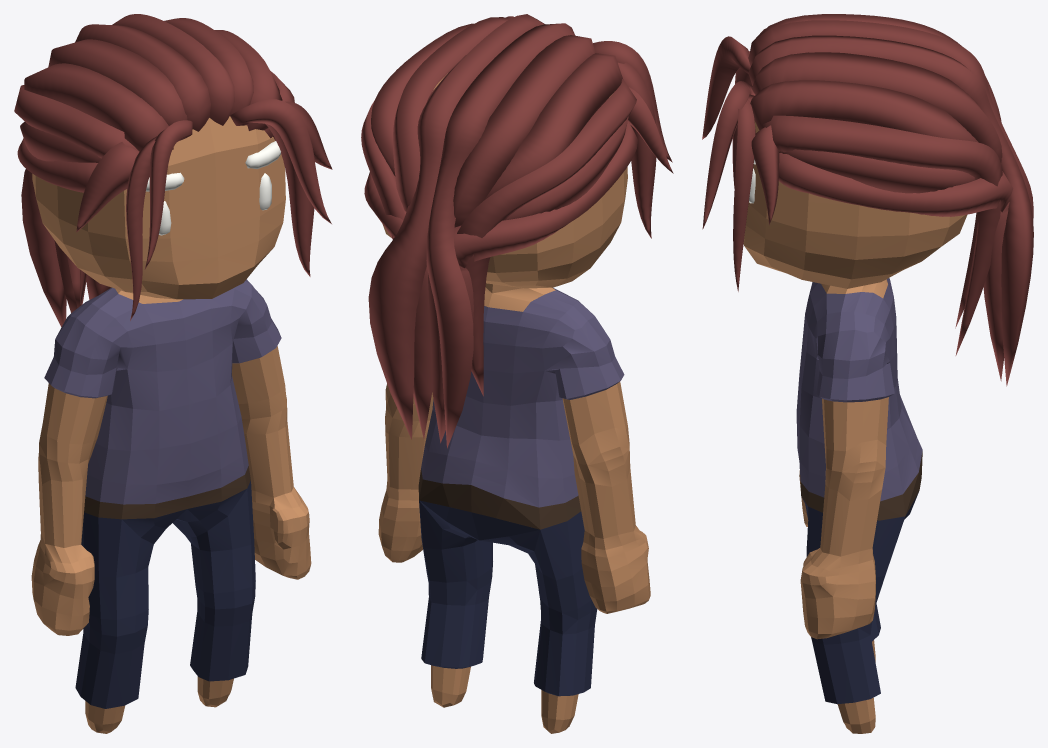
File: debout-casual2-female.glb
The picture shows the model from 3 angles, left to right: view 1: azimuth 30°, elevation 25°; view 2: azimuth 150°, elevation 25°; view 3: azimuth 270°, elevation 25°; orthographic projection.
Visible parts, largest first — view 1: Cube004, Cube004_5, Cube004_1, Cube004_2, Cube004_3, Cube004_4; view 2: Cube004_5, Cube004, Cube004_1, Cube004_2, Cube004_3; view 3: Cube004_5, Cube004, Cube004_1, Cube004_2, Cube004_3.
Boxes of the visible parts, left/top/right/bottom form: Cube004: left=31, top=116, right=311, bottom=733; Cube004_5: left=14, top=14, right=332, bottom=327; Cube004_1: left=44, top=279, right=281, bottom=504; Cube004_2: left=75, top=480, right=255, bottom=708; Cube004_3: left=84, top=466, right=250, bottom=519; Cube004_4: left=146, top=141, right=280, bottom=235; Cube004_5: left=361, top=14, right=673, bottom=448; Cube004: left=378, top=73, right=650, bottom=733; Cube004_1: left=421, top=288, right=624, bottom=507; Cube004_2: left=419, top=500, right=597, bottom=696; Cube004_3: left=418, top=468, right=581, bottom=529; Cube004_5: left=702, top=14, right=1033, bottom=386; Cube004: left=743, top=120, right=967, bottom=733; Cube004_1: left=796, top=278, right=922, bottom=501; Cube004_2: left=802, top=492, right=918, bottom=704; Cube004_3: left=800, top=451, right=922, bottom=520.
Size of the model in its own units: 0.6642 by 1.63 by 0.7245.
